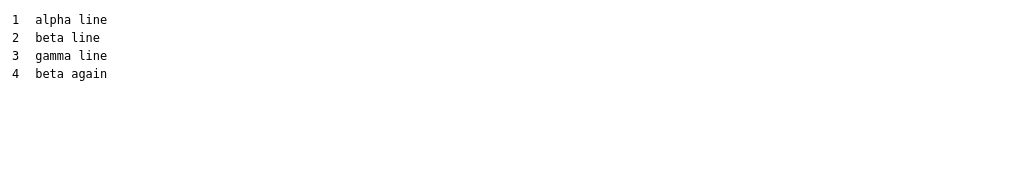
Test: find in text (Ctrl+F) › marks the current match without splitting the body into elements
Press f
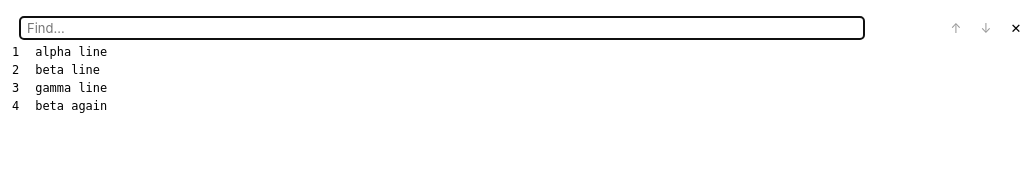
In the field named "Find in document": (442, 28) [20,17,864,39], type "gamma"
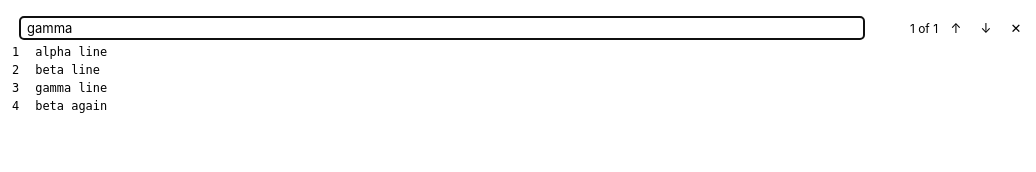
Expected: the element with test id "find-highlight" is shown, [27,80,1035,98]
Result: the text "1 of 1" is shown at [910,20,938,36]
